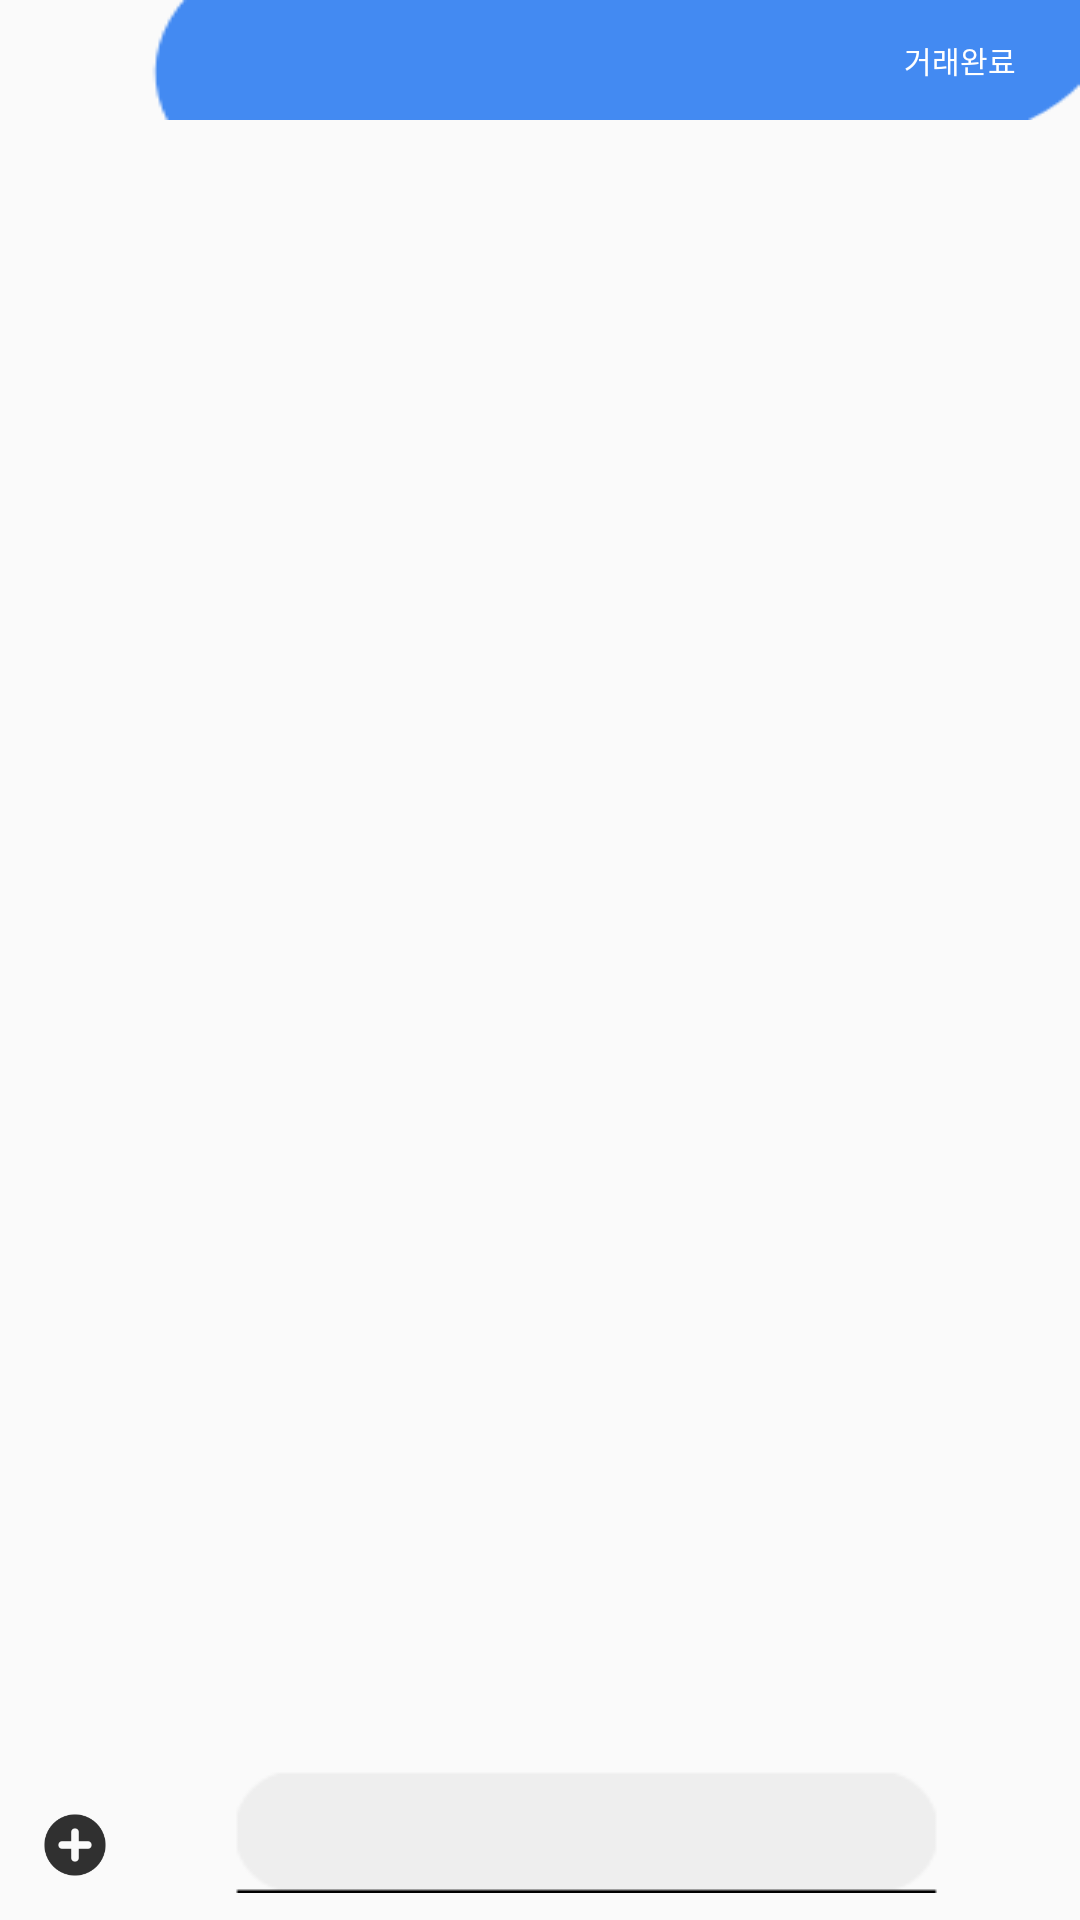

Locate icon controls on the screen. Image size 1080px x 1920px, boxes as (x1, y1, x2, y2).
plus: (44, 1814, 106, 1876)
